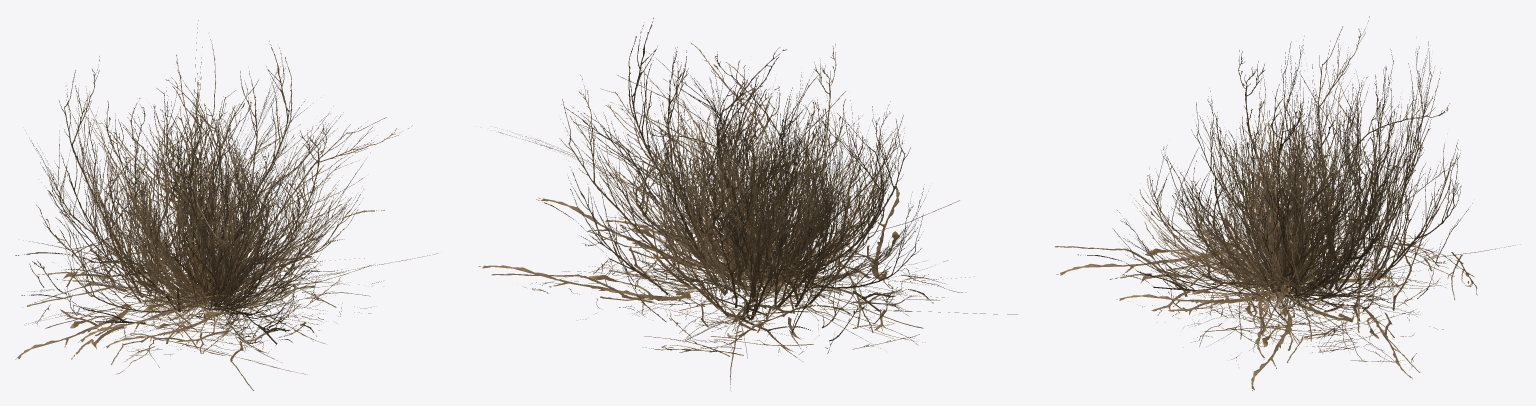
3 renders of one model, left to right at view 1: azimuth 30°, elevation 25°; view 2: azimuth 150°, elevation 25°; view 3: azimuth 270°, elevation 25°, orthographic. The views are drawn at different scales.
Visible parts, largest first — view 1: SM_vdknafgha_VarG, SM_vdknafgha_VarC, SM_vdknafgha_VarE, SM_vdknafgha_VarF, SM_vdknafgha_VarH, SM_vdknafgha_VarD, SM_vdknafgha_VarB; view 2: SM_vdknafgha_VarG, SM_vdknafgha_VarF, SM_vdknafgha_VarC, SM_vdknafgha_VarE, SM_vdknafgha_VarH, SM_vdknafgha_VarD; view 3: SM_vdknafgha_VarG, SM_vdknafgha_VarC, SM_vdknafgha_VarF, SM_vdknafgha_VarE, SM_vdknafgha_VarH, SM_vdknafgha_VarD.
Part boxes in pixels (bbox=[...]): SM_vdknafgha_VarG: bbox=[15, 20, 438, 390]; SM_vdknafgha_VarC: bbox=[27, 104, 383, 356]; SM_vdknafgha_VarE: bbox=[22, 129, 370, 374]; SM_vdknafgha_VarF: bbox=[90, 88, 371, 352]; SM_vdknafgha_VarH: bbox=[126, 79, 412, 359]; SM_vdknafgha_VarD: bbox=[147, 172, 292, 345]; SM_vdknafgha_VarB: bbox=[168, 199, 250, 322]; SM_vdknafgha_VarG: bbox=[478, 17, 1017, 390]; SM_vdknafgha_VarF: bbox=[553, 70, 907, 333]; SM_vdknafgha_VarC: bbox=[577, 73, 928, 351]; SM_vdknafgha_VarE: bbox=[630, 82, 965, 350]; SM_vdknafgha_VarH: bbox=[498, 43, 941, 332]; SM_vdknafgha_VarD: bbox=[666, 125, 859, 302]; SM_vdknafgha_VarG: bbox=[1055, 16, 1520, 390]; SM_vdknafgha_VarC: bbox=[1130, 88, 1457, 360]; SM_vdknafgha_VarF: bbox=[1159, 71, 1420, 363]; SM_vdknafgha_VarE: bbox=[1162, 79, 1460, 346]; SM_vdknafgha_VarH: bbox=[1180, 102, 1414, 364]; SM_vdknafgha_VarD: bbox=[1181, 149, 1357, 321].
Bounding box in the file's own units: 1.2 × 0.6554 × 1.03.
Materials: 1 (1 with a texture image).
